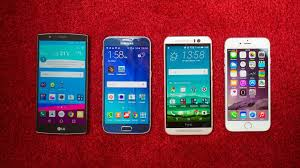iphone: (222, 34, 274, 135)
lg: (34, 29, 90, 138), (102, 33, 154, 134), (163, 34, 215, 135)
